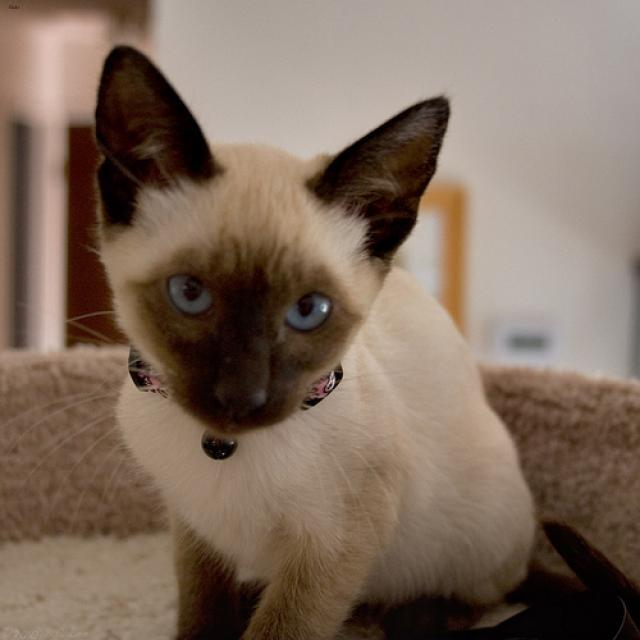Siamese: (98, 44, 451, 436)
